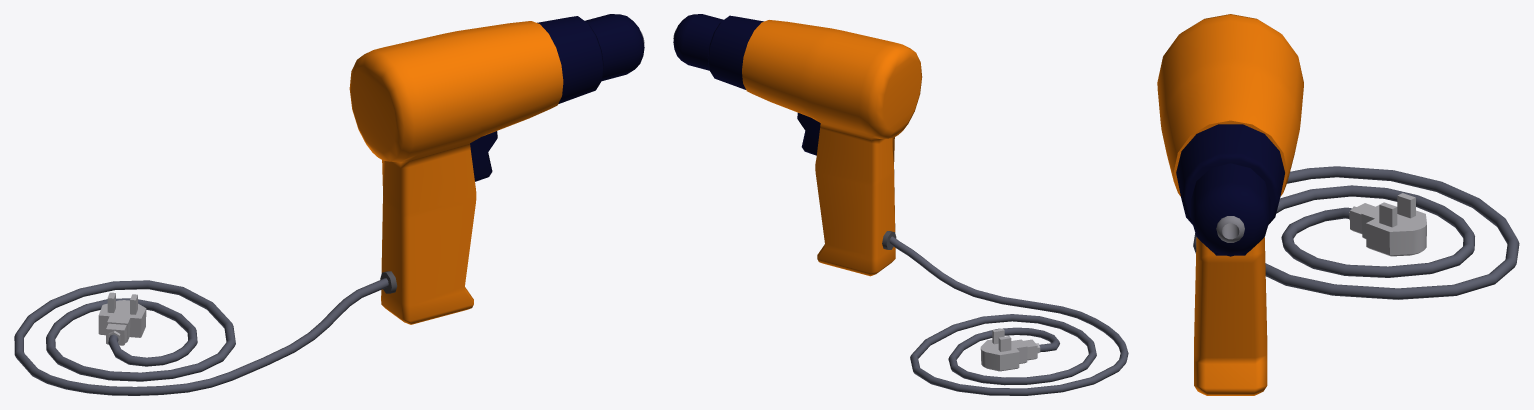
Rendered from Screwdriver_electro.fbx.
The picture shows the model from 3 angles, left to right: view 1: azimuth 30°, elevation 25°; view 2: azimuth 150°, elevation 25°; view 3: azimuth 270°, elevation 25°; orthographic projection. The views are drawn at different scales.
Visible parts, largest first — view 1: Screwdriver_electro; view 2: Screwdriver_electro; view 3: Screwdriver_electro.
Part boxes in pixels (x1=…): Screwdriver_electro: x1=14, y1=14, x2=644, y2=395; Screwdriver_electro: x1=673, y1=14, x2=1128, y2=395; Screwdriver_electro: x1=1157, y1=14, x2=1519, y2=395.
Bounding box in the file's own units: 77.95 × 34.21 × 36.59.
